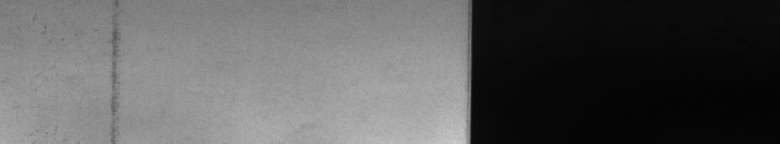hd: (104, 4, 123, 136)
